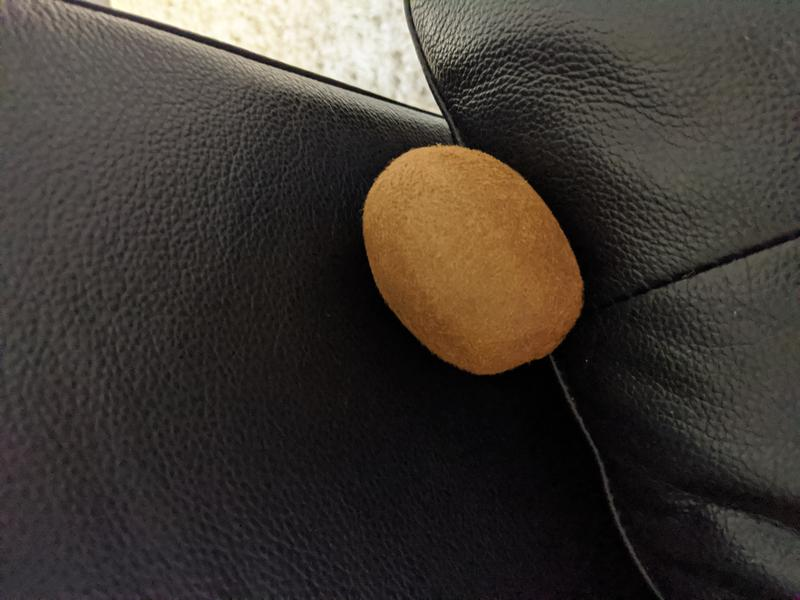kiwi: (360, 144, 585, 377)
